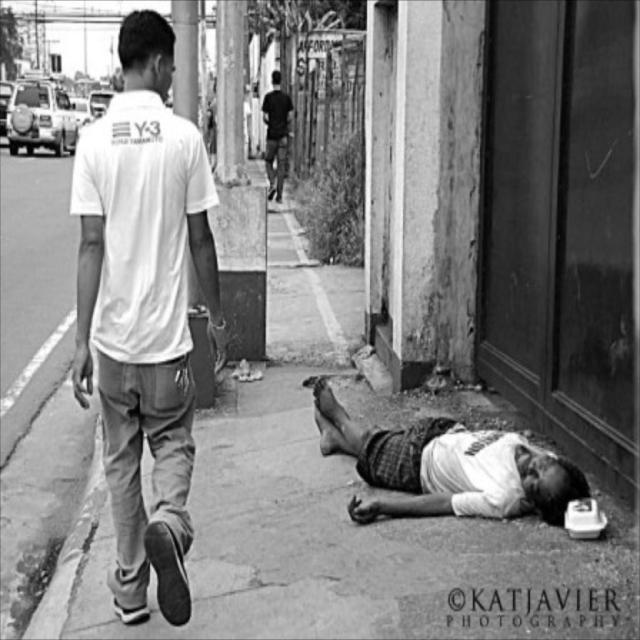Pedestrians: (72, 9, 226, 628), (263, 68, 296, 204)
Sport-Utility-Vehicle: (6, 76, 71, 156)
